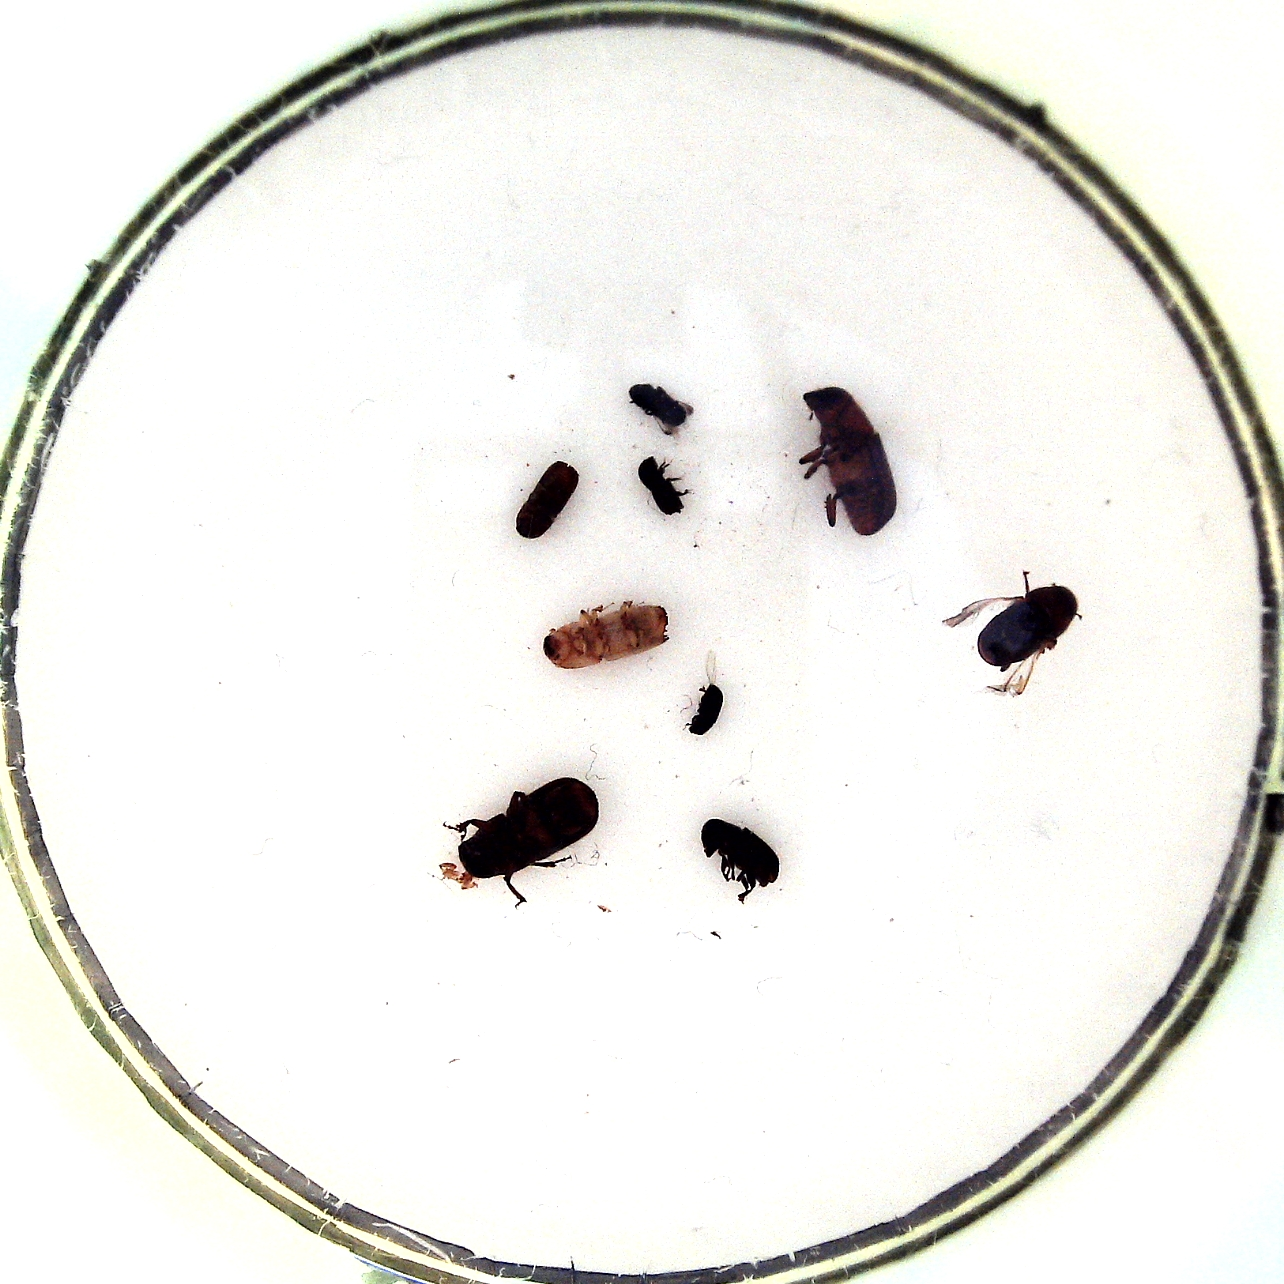Boerner: (537, 595, 676, 669)
Leconte: (439, 769, 604, 915), (939, 562, 1083, 701), (791, 382, 907, 541)
Linnaeus: (511, 457, 581, 542)
armandi: (693, 810, 784, 908)
coleoptera: (624, 377, 701, 447), (681, 647, 725, 741), (631, 452, 688, 523)
